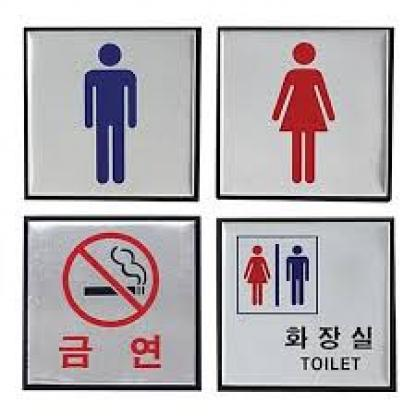toilet: (265, 41, 336, 186), (80, 40, 140, 188), (243, 239, 313, 312)
